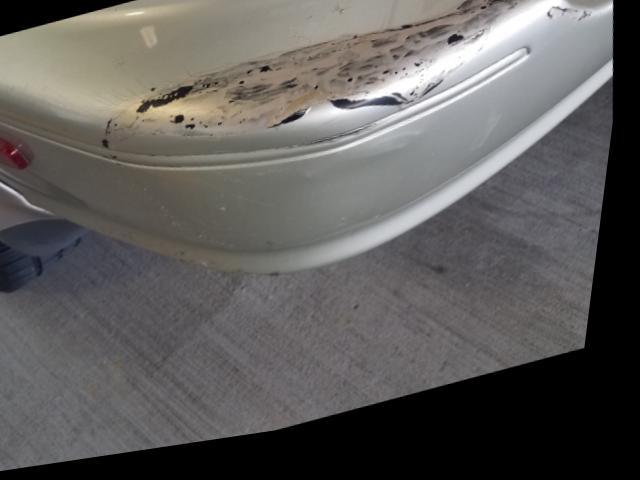rub: (99, 3, 594, 158)
